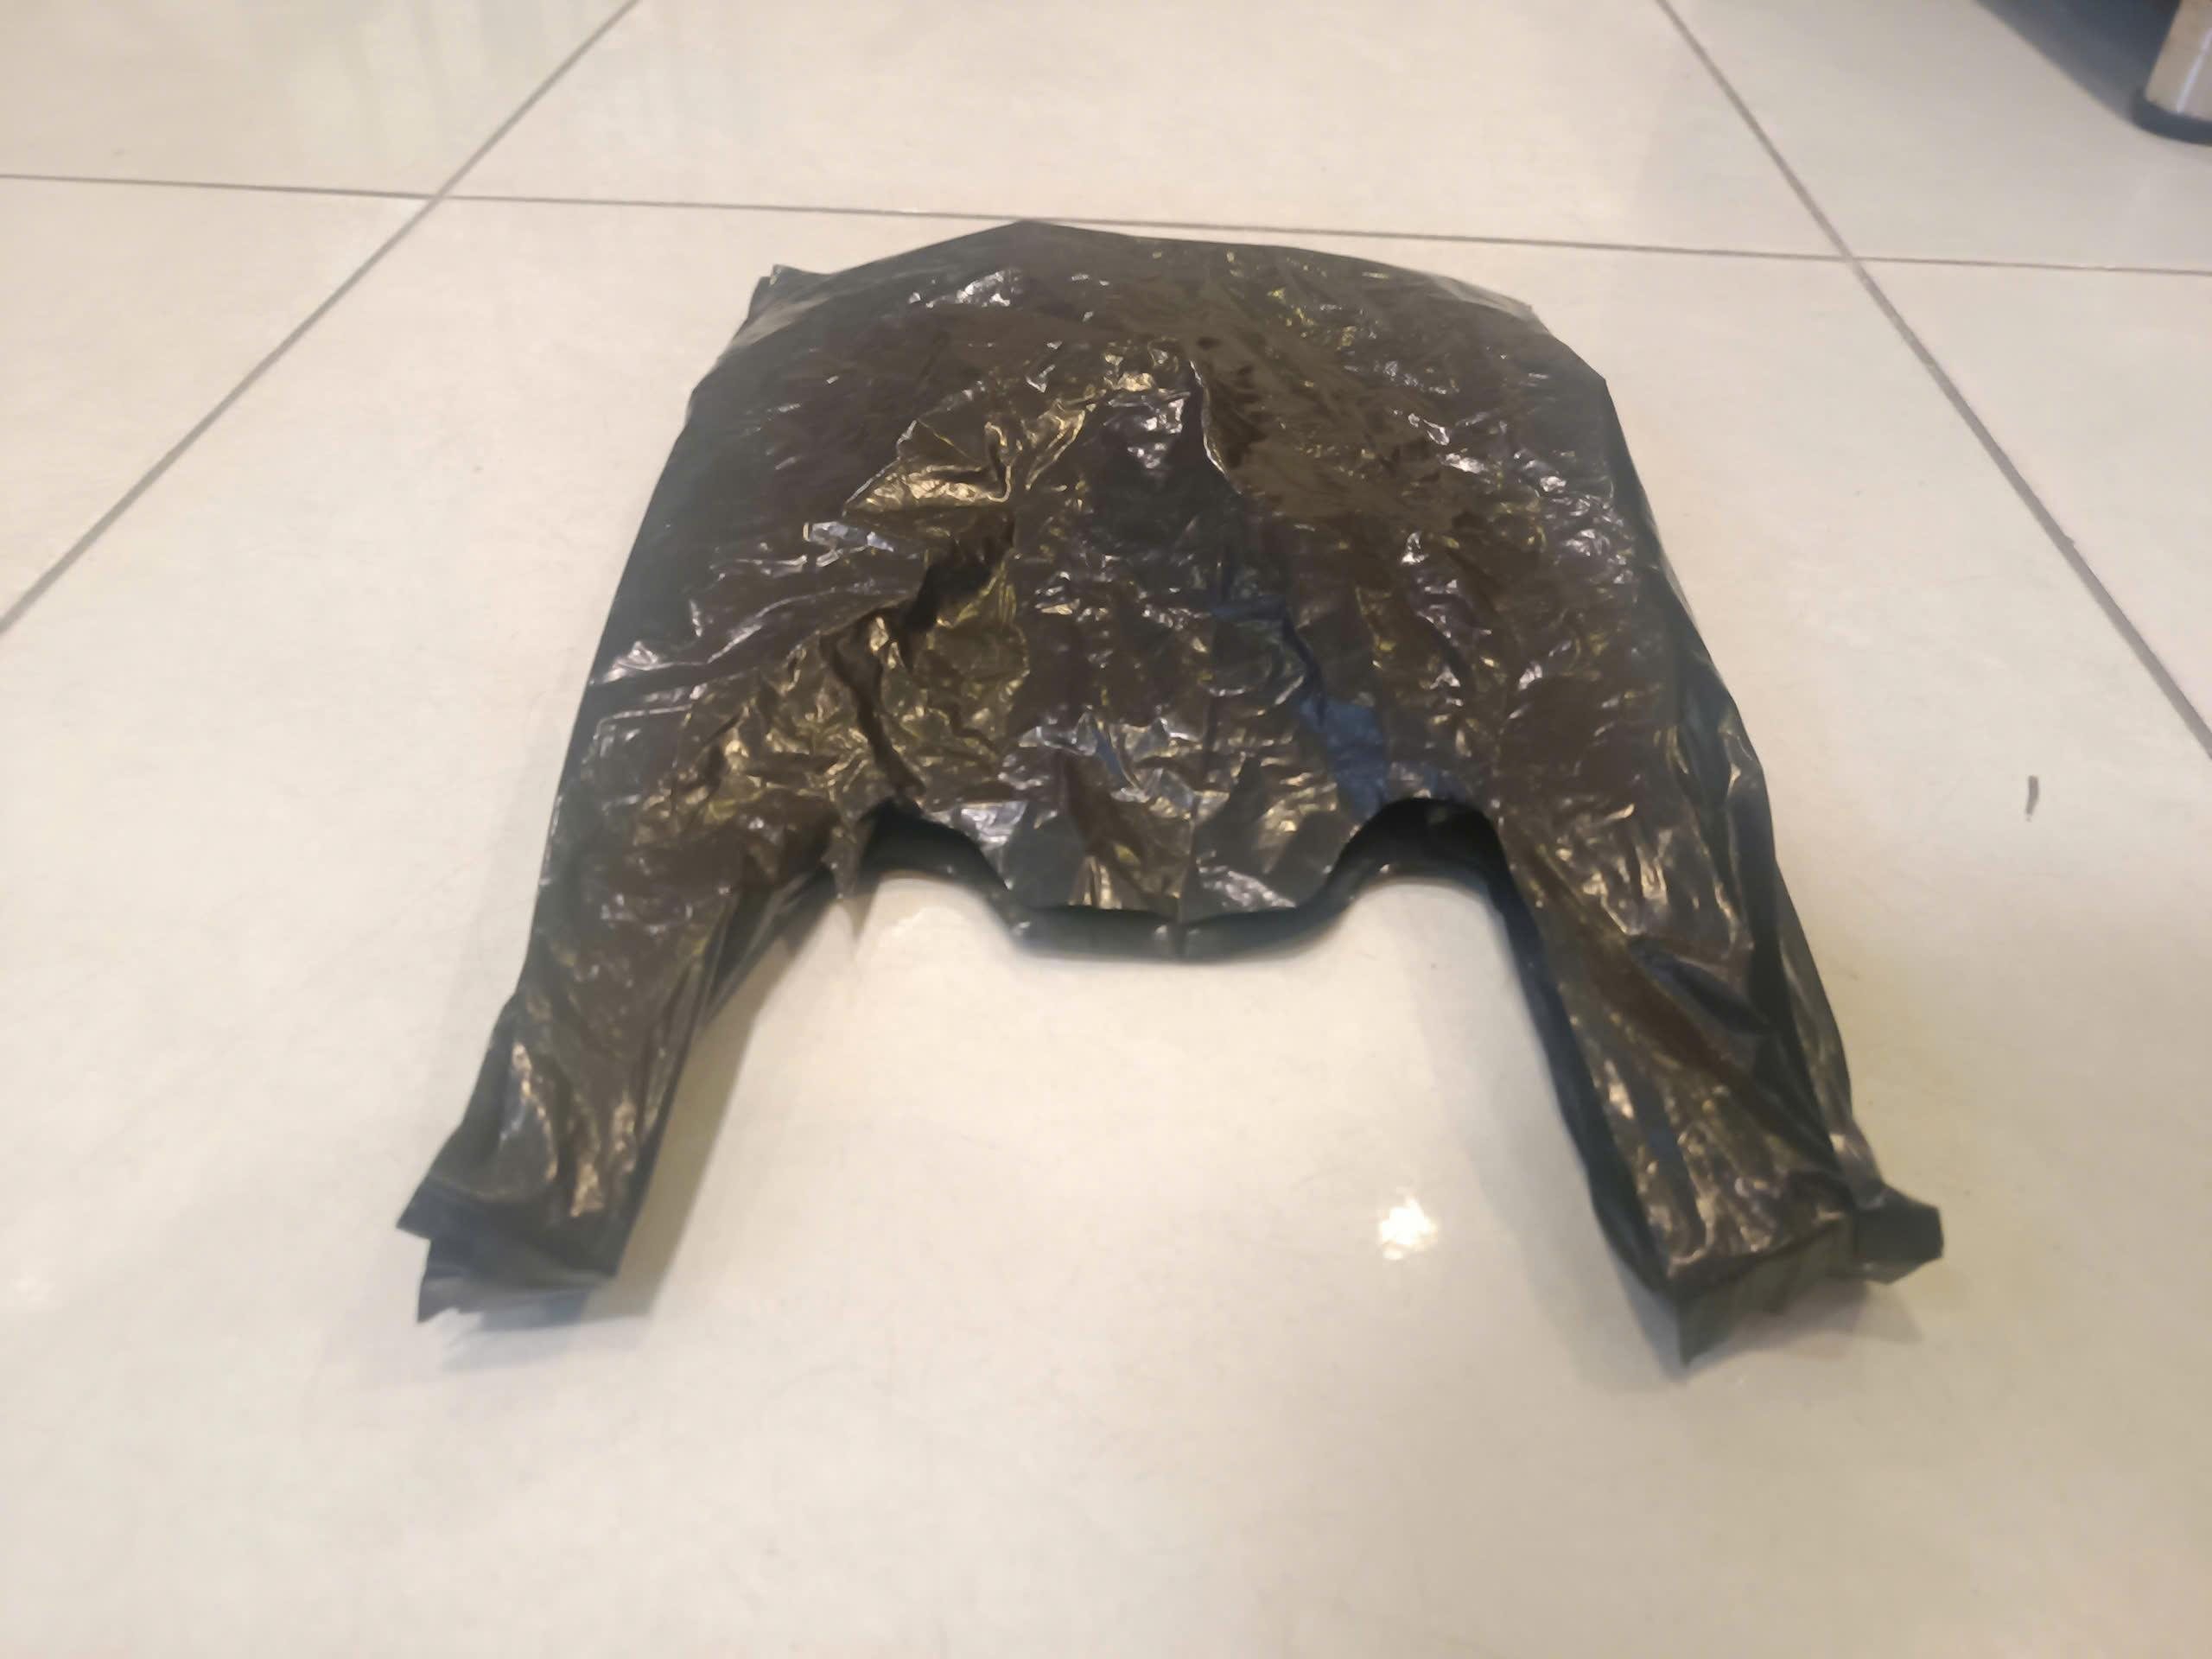Vo co: (397, 220, 1940, 1361)
